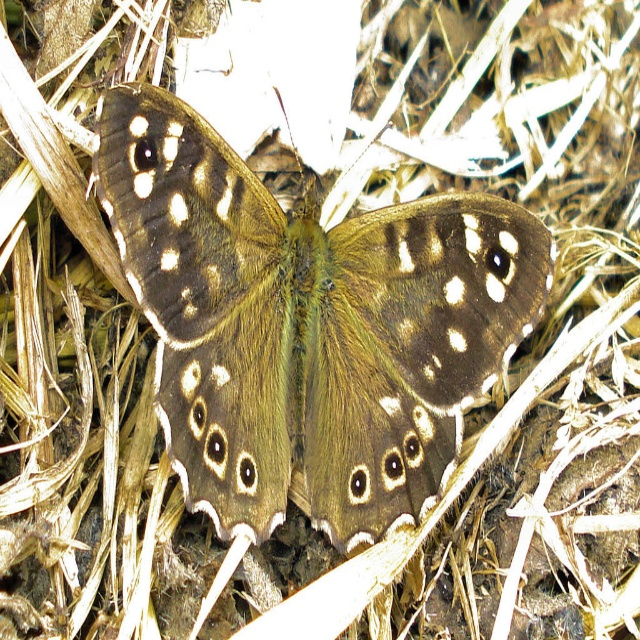Butterfly: (94, 79, 553, 556)
